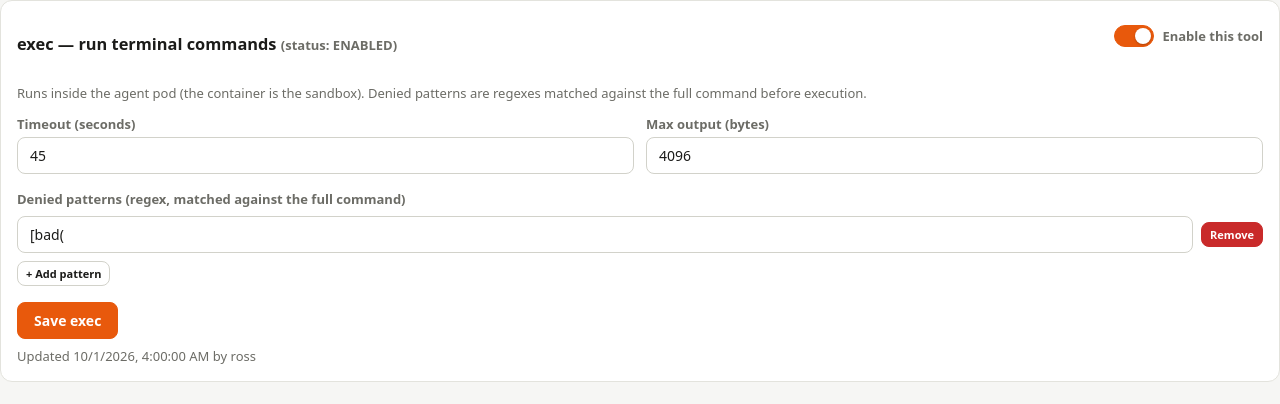
ToolCard save paths › rejects invalid denied regex client-side
The width and height of the screenshot is (1280, 404).
Click the button "Save exec" at (68, 320), box [17,302,118,339]
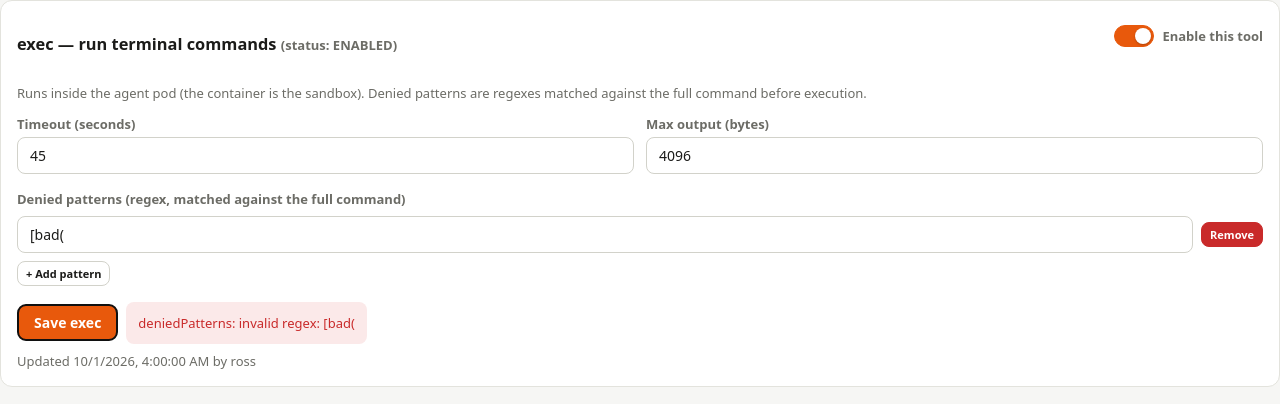
Expected: the message shows "invalid regex", [138,314,355,332]
